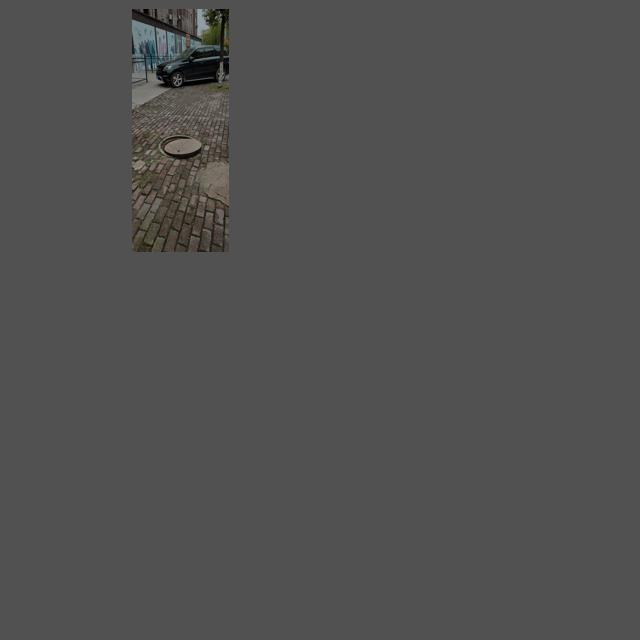uncovered: (158, 134, 201, 158)
